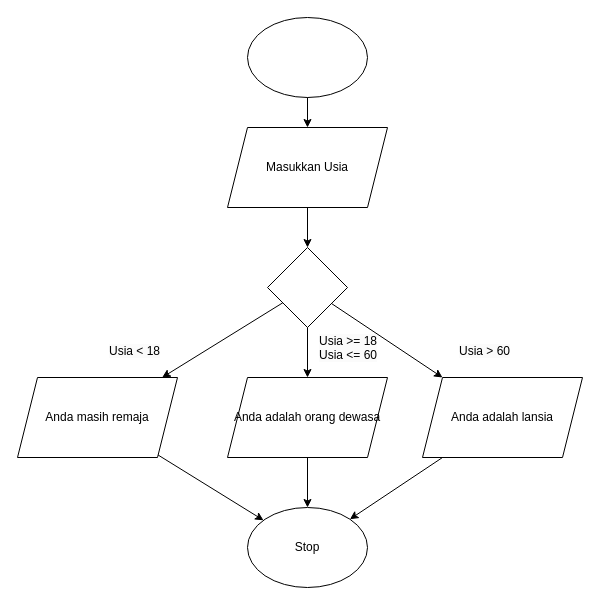
Image size: 600x605. Some labels were removed from this diagram. The box of each missing label's shape, as (x1, y1, x2, y2) in pixels:
Check Usia: (266, 246, 348, 328)
Start: (246, 16, 368, 98)
